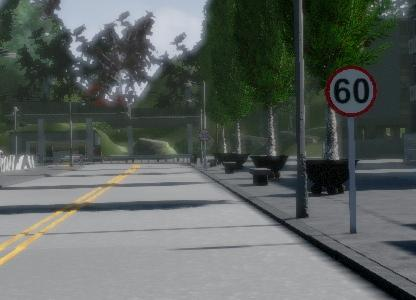Speed_60: (358, 53, 416, 118)
